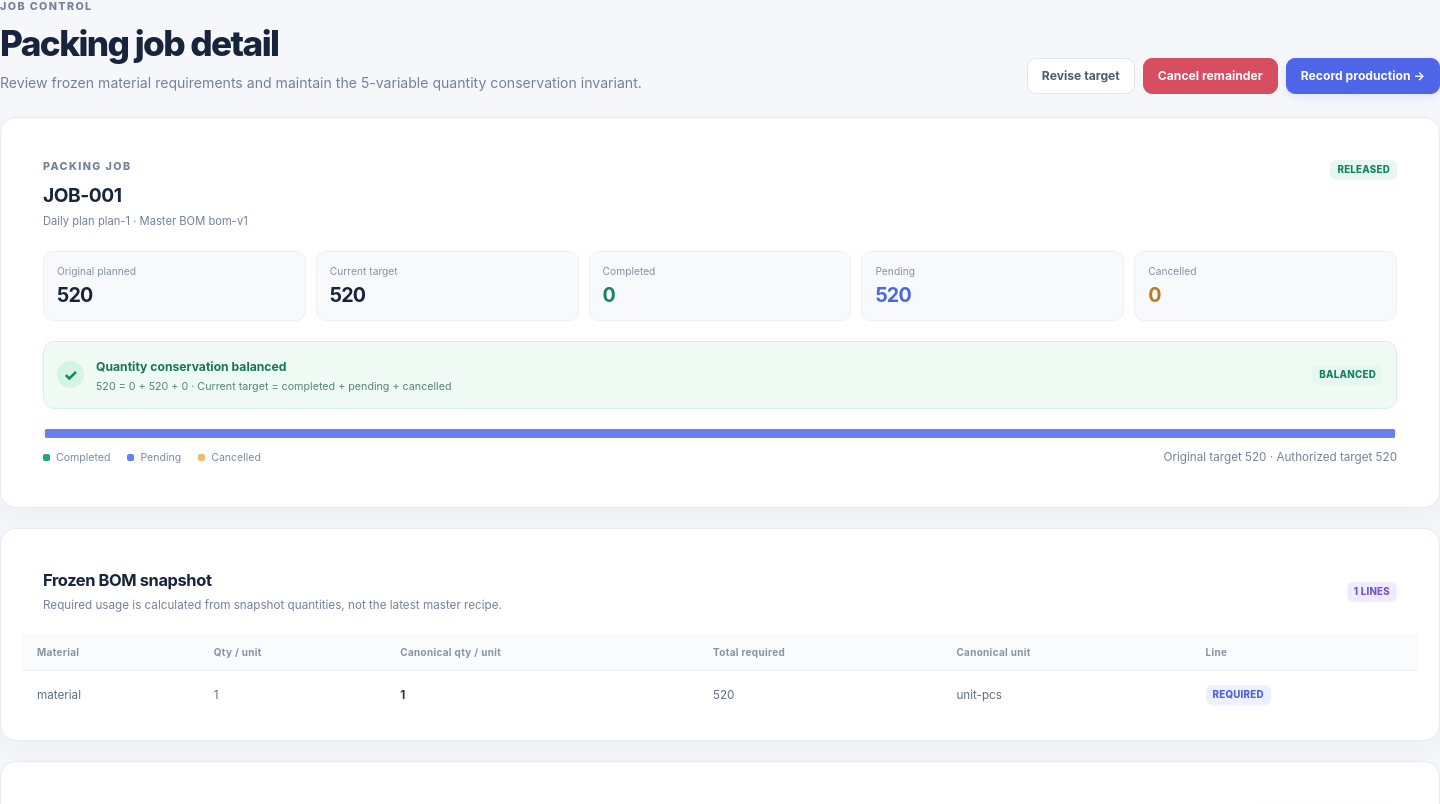
Test: Phase 8 transactional operator workflows (MSW + React) › revises a job from 520 to 450 and cancels only the remaining quantity
The width and height of the screenshot is (1440, 804).
Expected: the text "Quantity conservation balanced" shows "520 = 0 + 520 + 0", [96, 380, 188, 393]
Click the button "Revise target": (1081, 76) [1027, 58, 1135, 94]
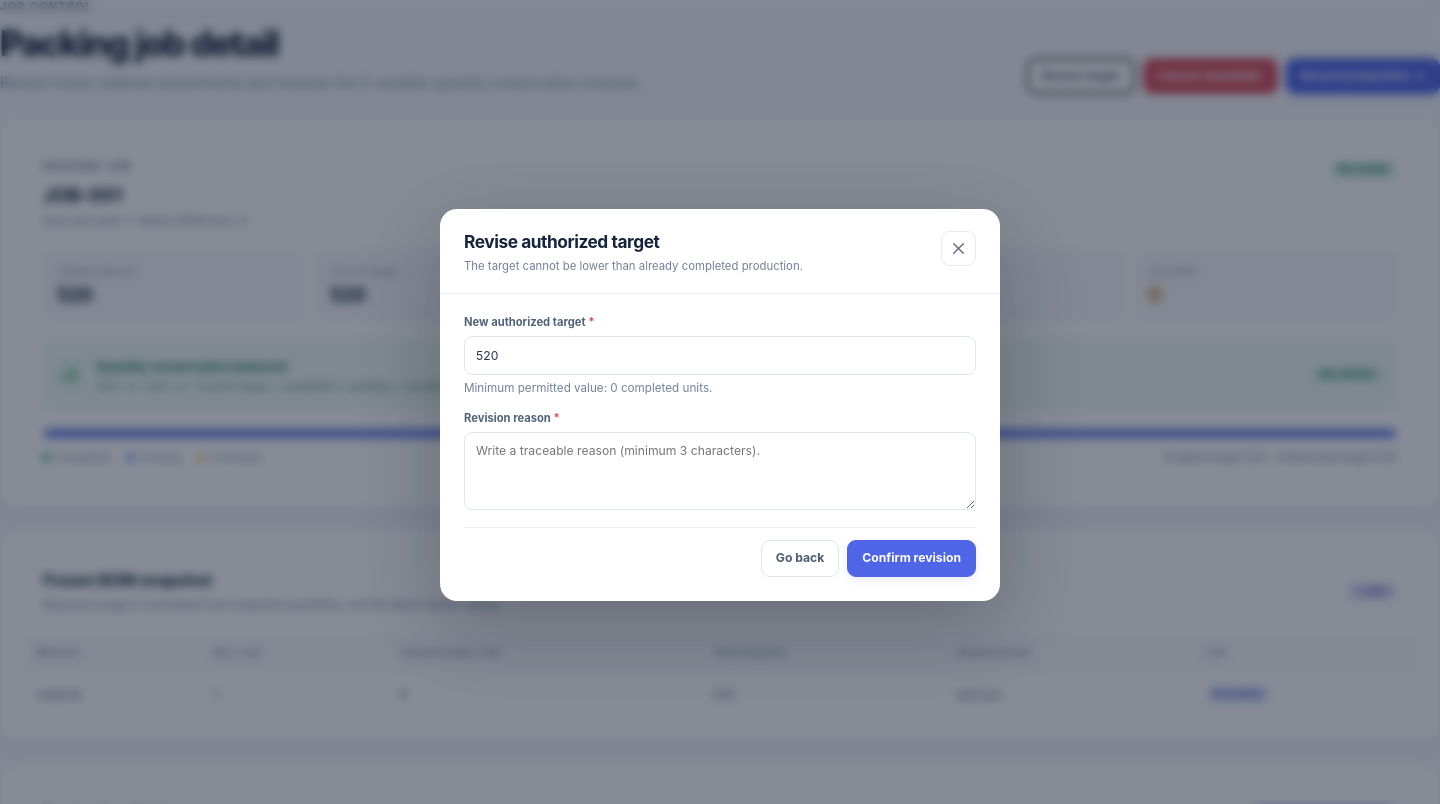
Replace the text in the number field labelled "New authorized target" with "450": (720, 356) [464, 336, 976, 375]
In the text box labelled "Revision reason *": (720, 471) [464, 432, 976, 510], type "Truck transport capacity limitation"
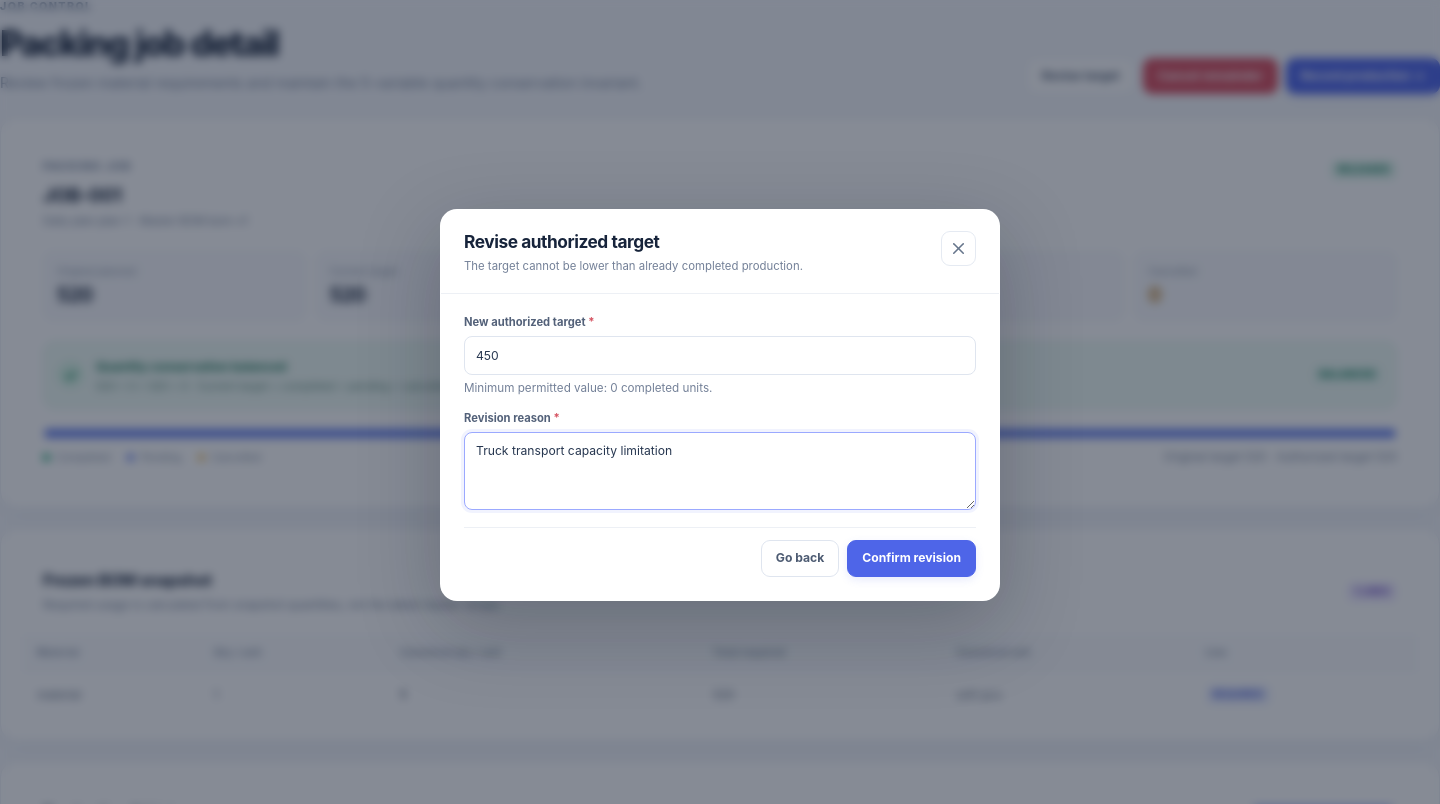
Click the button "Confirm revision": (912, 558) [847, 540, 976, 577]
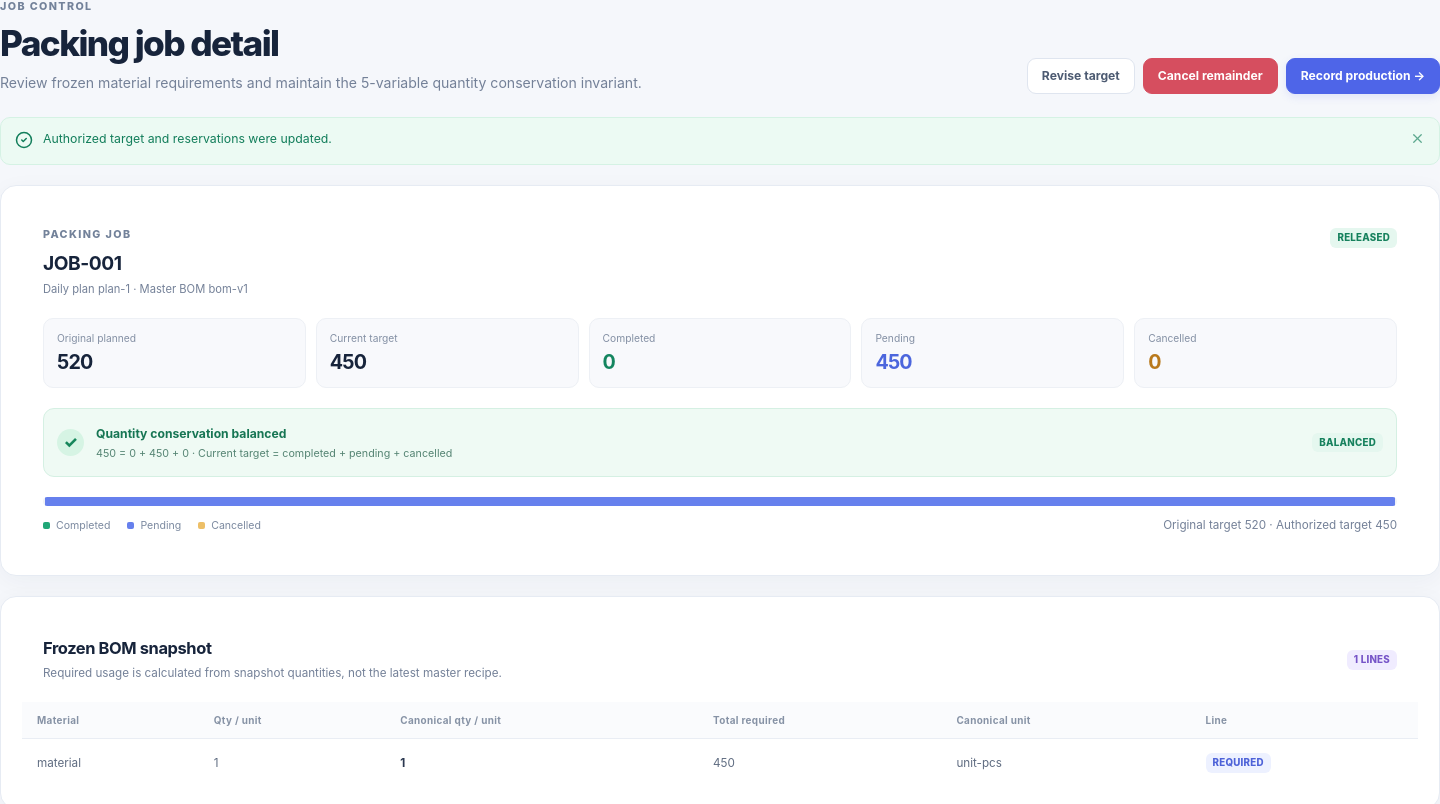
Result: the text "Quantity conservation balanced" shows "450 = 0 + 450 + 0" at [96, 447, 189, 460]
Click the button "Cancel remainder": (1210, 76) [1143, 58, 1278, 94]
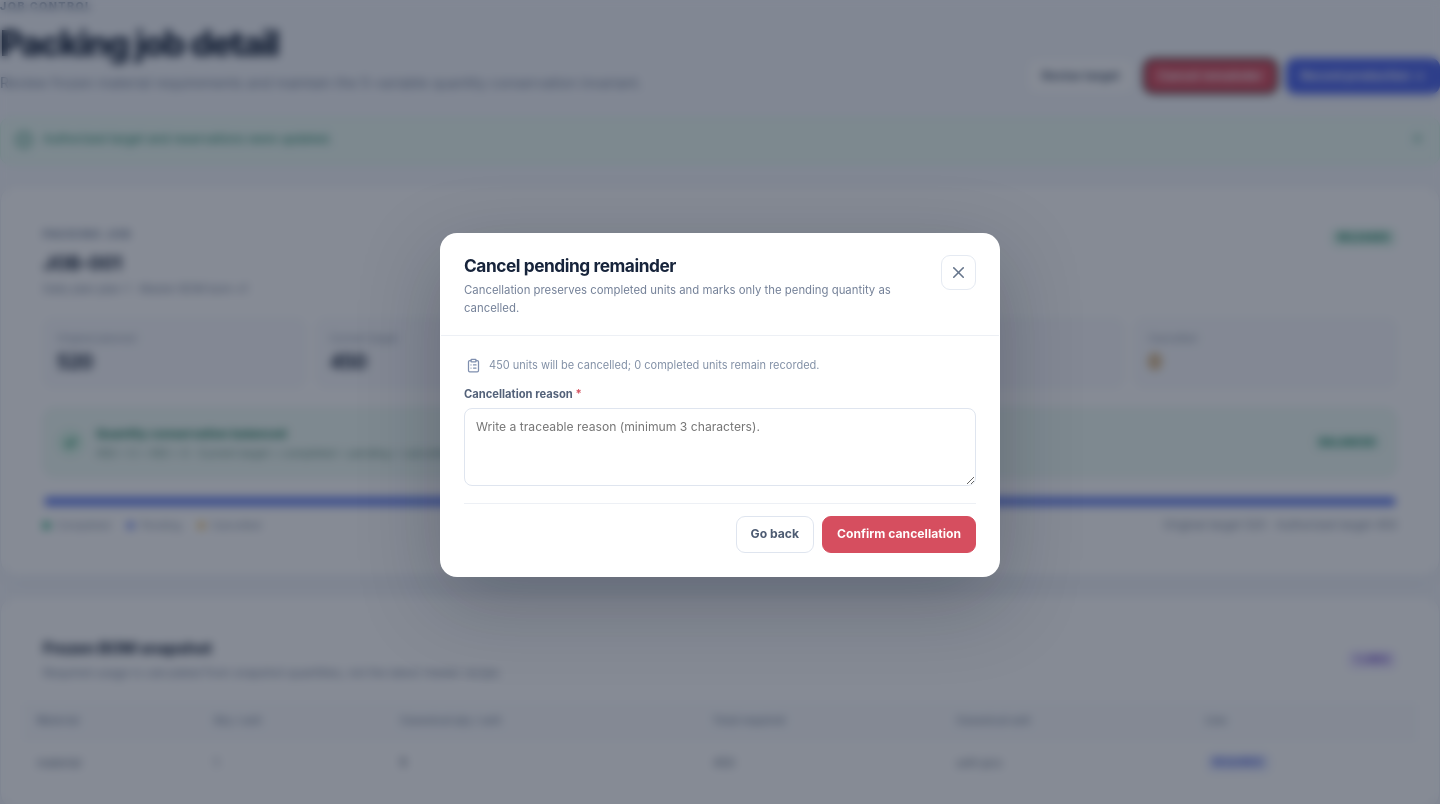
In the text box labelled "Cancellation reason *": (720, 447) [464, 408, 976, 486], type "Customer order cancelled"
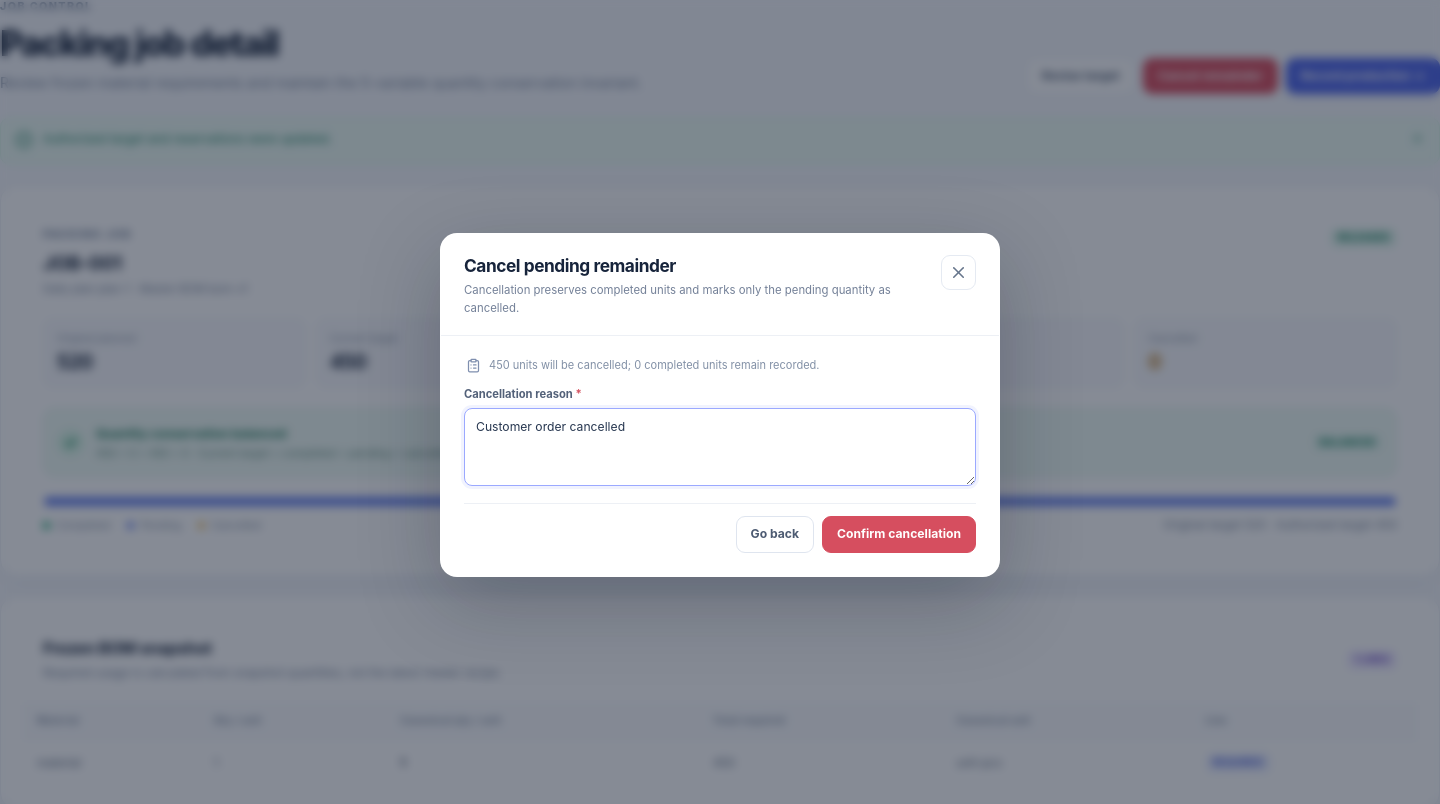
Click the button "Confirm cancellation": (899, 534) [822, 516, 976, 553]
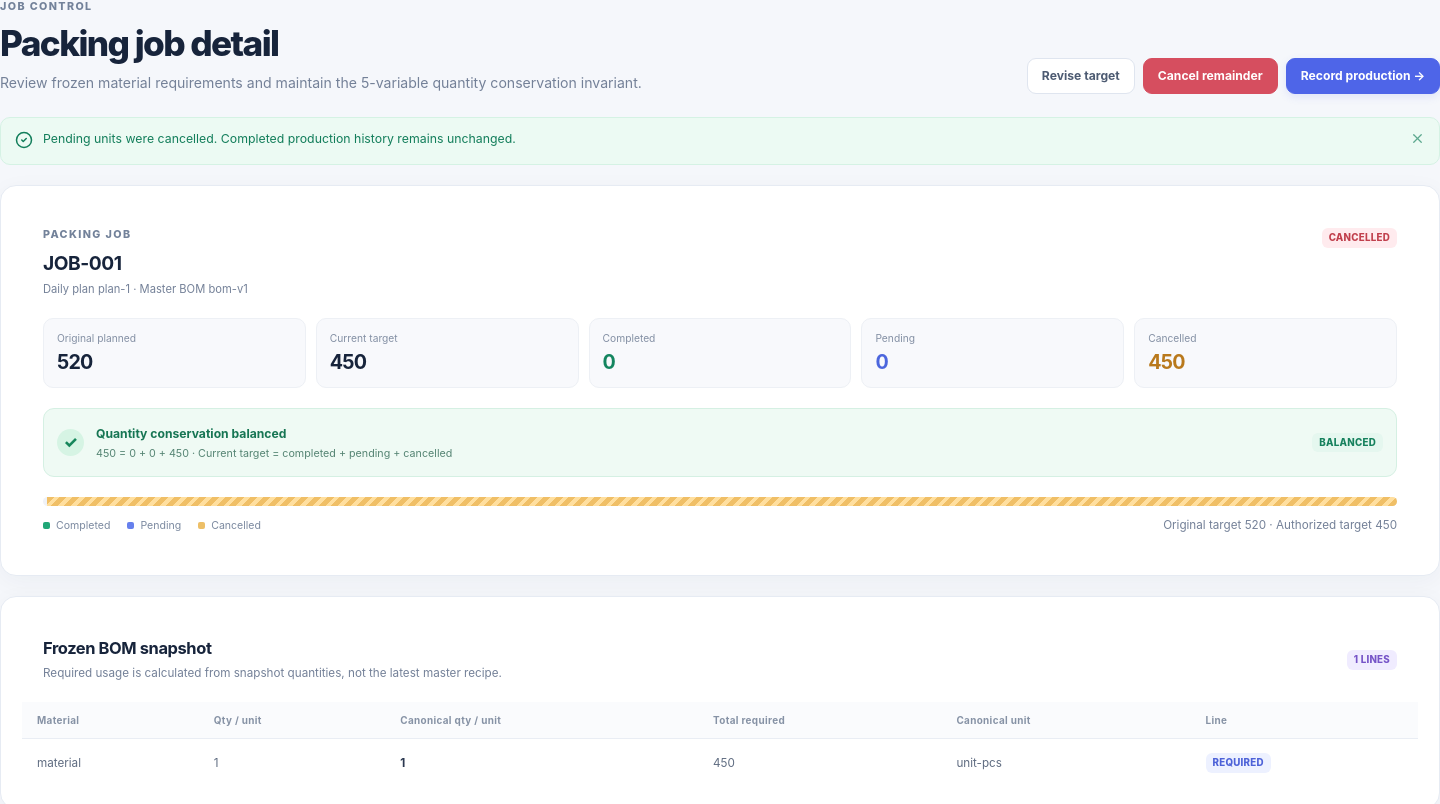
Result: the text "Quantity conservation balanced" shows "450 = 0 + 0 + 450" at [96, 447, 189, 460]
Result: the text "CANCELLED" is shown at [1322, 228, 1397, 248]
